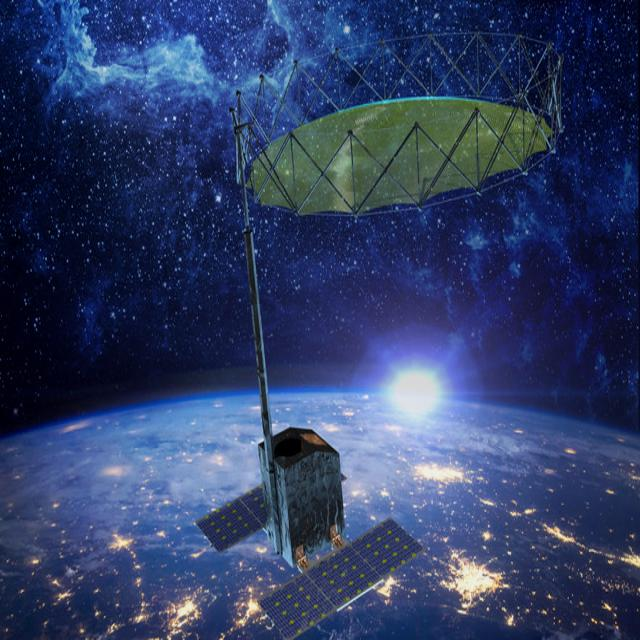satellite: (196, 28, 568, 640)
